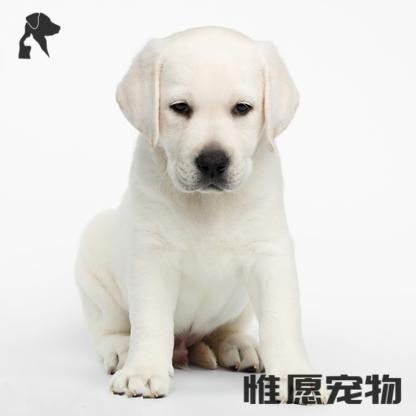Labarador Retriever: (72, 28, 324, 402)
